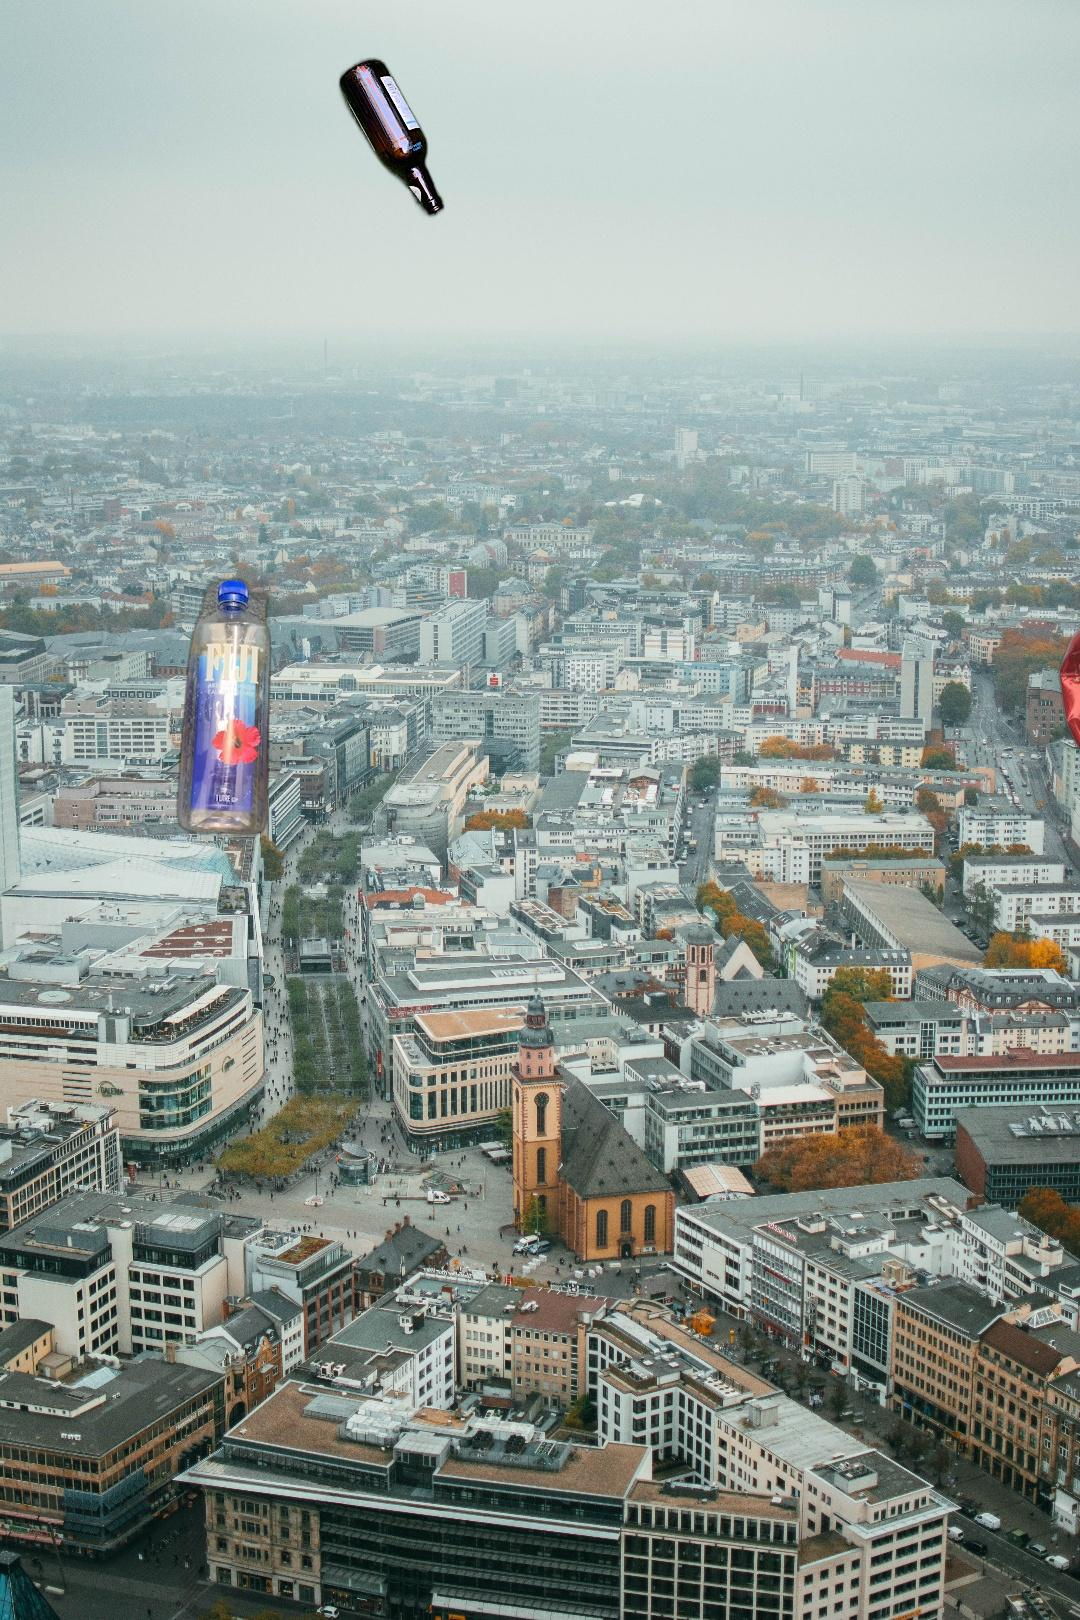glass: (180, 1432, 691, 1620), (335, 53, 450, 223)
metal-cans: (1053, 593, 1080, 777)
plastic-bottles: (174, 573, 277, 841)
